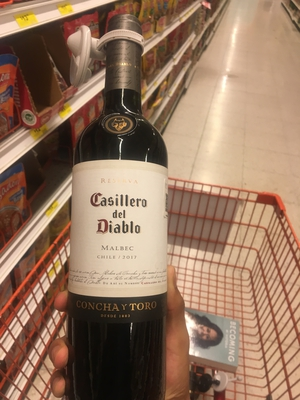casillero del diablo malbec: (63, 16, 190, 389)
